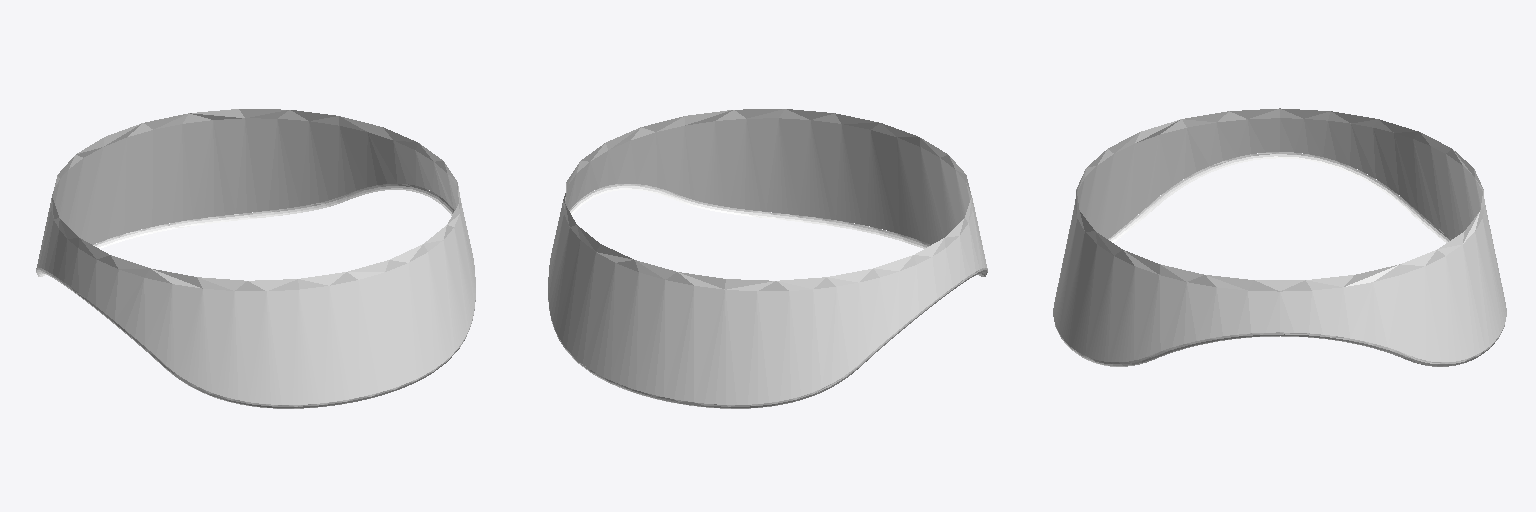
Rendered from original-2.obj.
3 renders of one model, left to right at view 1: azimuth 30°, elevation 25°; view 2: azimuth 150°, elevation 25°; view 3: azimuth 270°, elevation 25°, orthographic.
Visible parts, largest first — view 1: mesh1/mesh1-geometry#mesh1-geometry; view 2: mesh1/mesh1-geometry#mesh1-geometry; view 3: mesh1/mesh1-geometry#mesh1-geometry.
Part boxes in pixels (x1,y1,x2,y2): mesh1/mesh1-geometry#mesh1-geometry: (36,109,475,408); mesh1/mesh1-geometry#mesh1-geometry: (548,109,987,408); mesh1/mesh1-geometry#mesh1-geometry: (1053,108,1506,366).
Bounding box in the file's own units: 0.4547 × 0.1441 × 0.4828.